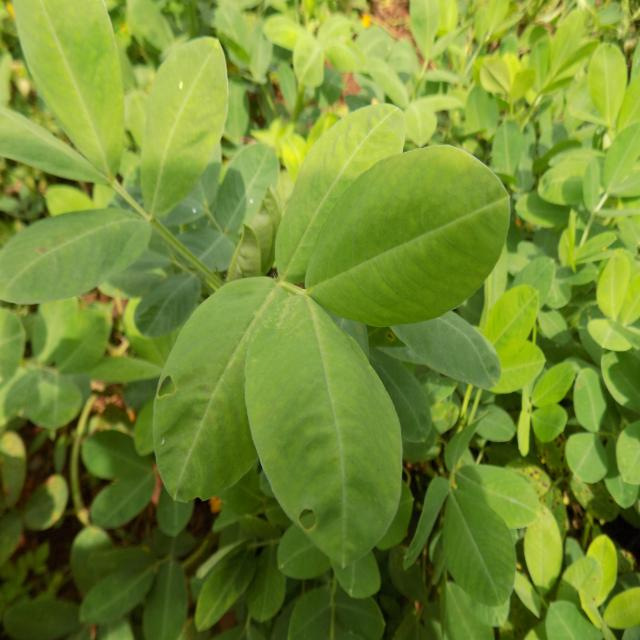Ground nut_healthy: (241, 292, 409, 569), (293, 148, 513, 323), (159, 270, 288, 504), (276, 104, 404, 280), (14, 1, 128, 188), (143, 35, 230, 234), (4, 201, 151, 308), (437, 484, 517, 624), (476, 290, 543, 378), (195, 545, 260, 633), (218, 146, 277, 236), (79, 555, 157, 623), (583, 40, 626, 139), (600, 242, 640, 346), (27, 363, 77, 440), (90, 472, 156, 528), (522, 506, 564, 594), (579, 363, 620, 439), (527, 357, 577, 410), (464, 398, 522, 439), (532, 360, 571, 420), (291, 30, 331, 88), (491, 112, 525, 180), (587, 527, 614, 606), (370, 56, 408, 103), (403, 96, 437, 148), (248, 21, 270, 78)
